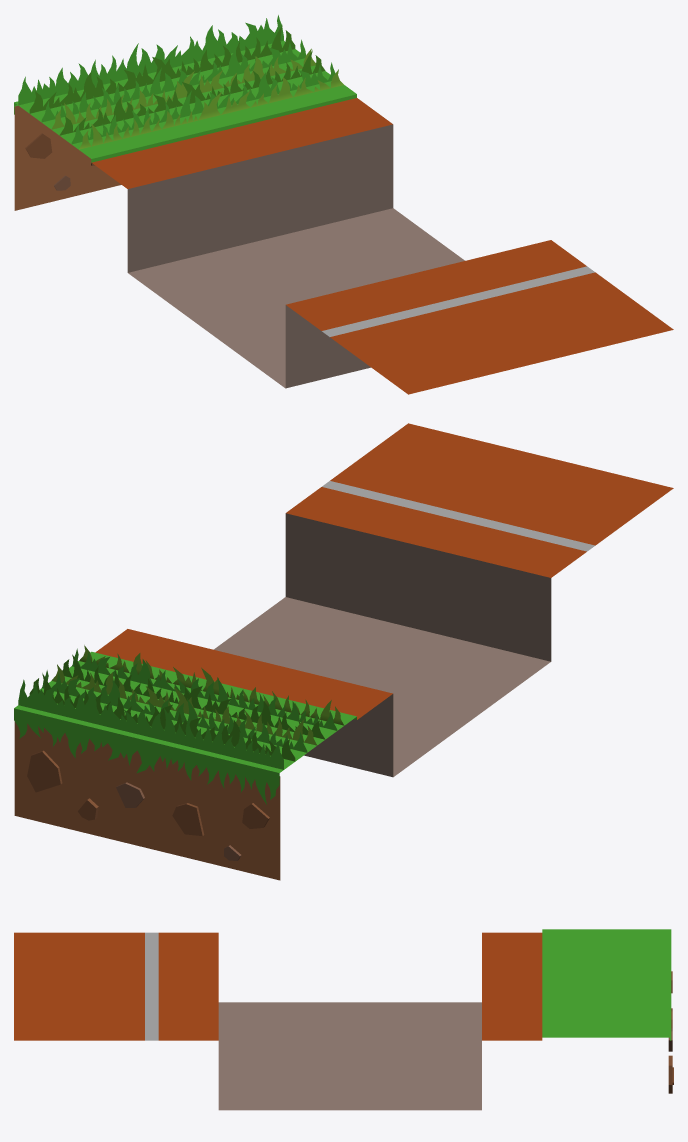
The model's file is ground_water_mid_01.fbx.
The picture shows the model from 3 angles, top to bottom: view 1: azimuth 30°, elevation 25°; view 2: azimuth 150°, elevation 25°; view 3: azimuth 270°, elevation 25°; orthographic projection. The views are drawn at different scales.
Visible parts, largest first — view 1: ground_water_mid_01, ground_water_mid_grass_01; view 2: ground_water_mid_01, ground_water_mid_grass_01; view 3: ground_water_mid_01.
Part boxes in pixels (bbox=[...]): ground_water_mid_01: bbox=[14, 40, 673, 394]; ground_water_mid_grass_01: bbox=[14, 15, 343, 149]; ground_water_mid_01: bbox=[14, 423, 673, 880]; ground_water_mid_grass_01: bbox=[14, 645, 344, 804]; ground_water_mid_01: bbox=[14, 929, 673, 1110].
Size of the model in its own units: 595 by 303 by 1537.
